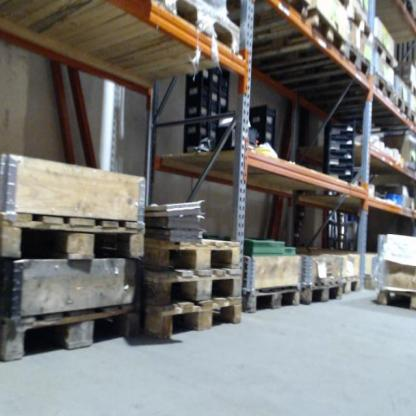pallet: (72, 1, 243, 64), (2, 298, 139, 364), (2, 213, 150, 268), (144, 299, 241, 338), (278, 13, 350, 63), (142, 270, 240, 305), (149, 241, 240, 270), (241, 283, 304, 319), (298, 281, 347, 312), (252, 2, 312, 25), (344, 5, 371, 45), (342, 53, 373, 86), (372, 39, 396, 72), (378, 289, 415, 310), (337, 275, 360, 306), (373, 75, 393, 109), (394, 91, 407, 121), (407, 109, 415, 129)
